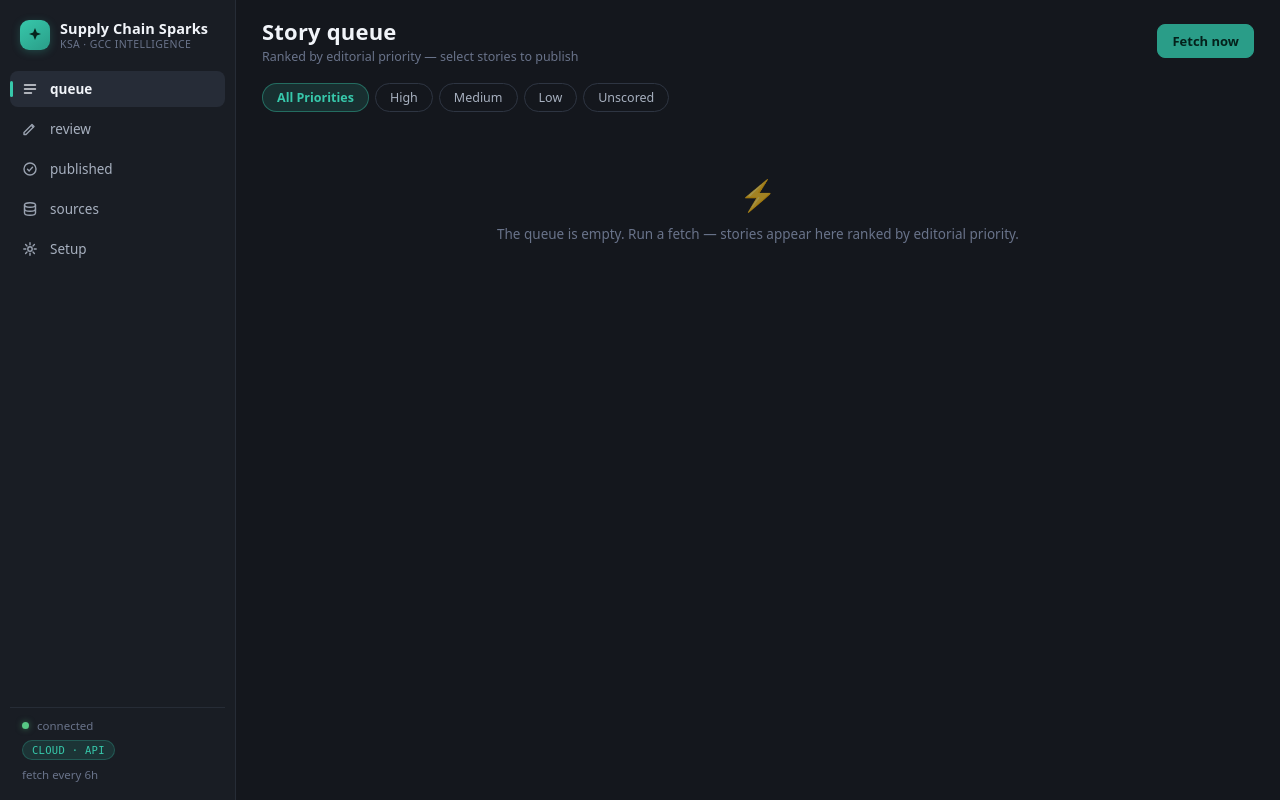
Scenario: fetch done with no new items still says so
Expected: the text "queue is empty" is shown, [497,225,1019,243]
Click the button "Fetch now": (1206, 40) [1158,24,1254,58]
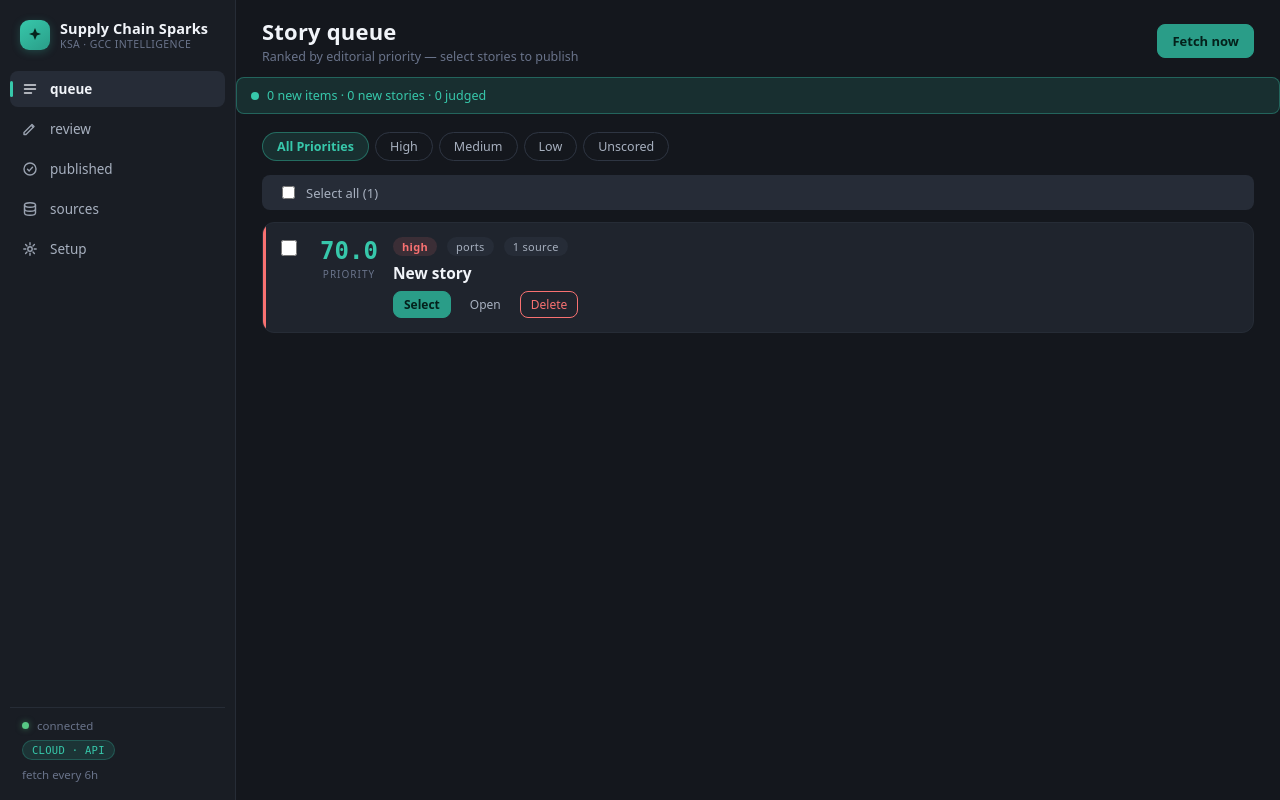
Expected: the text "0 new items · 0 new stories · 0 judged" is shown, [236,77,1279,114]
